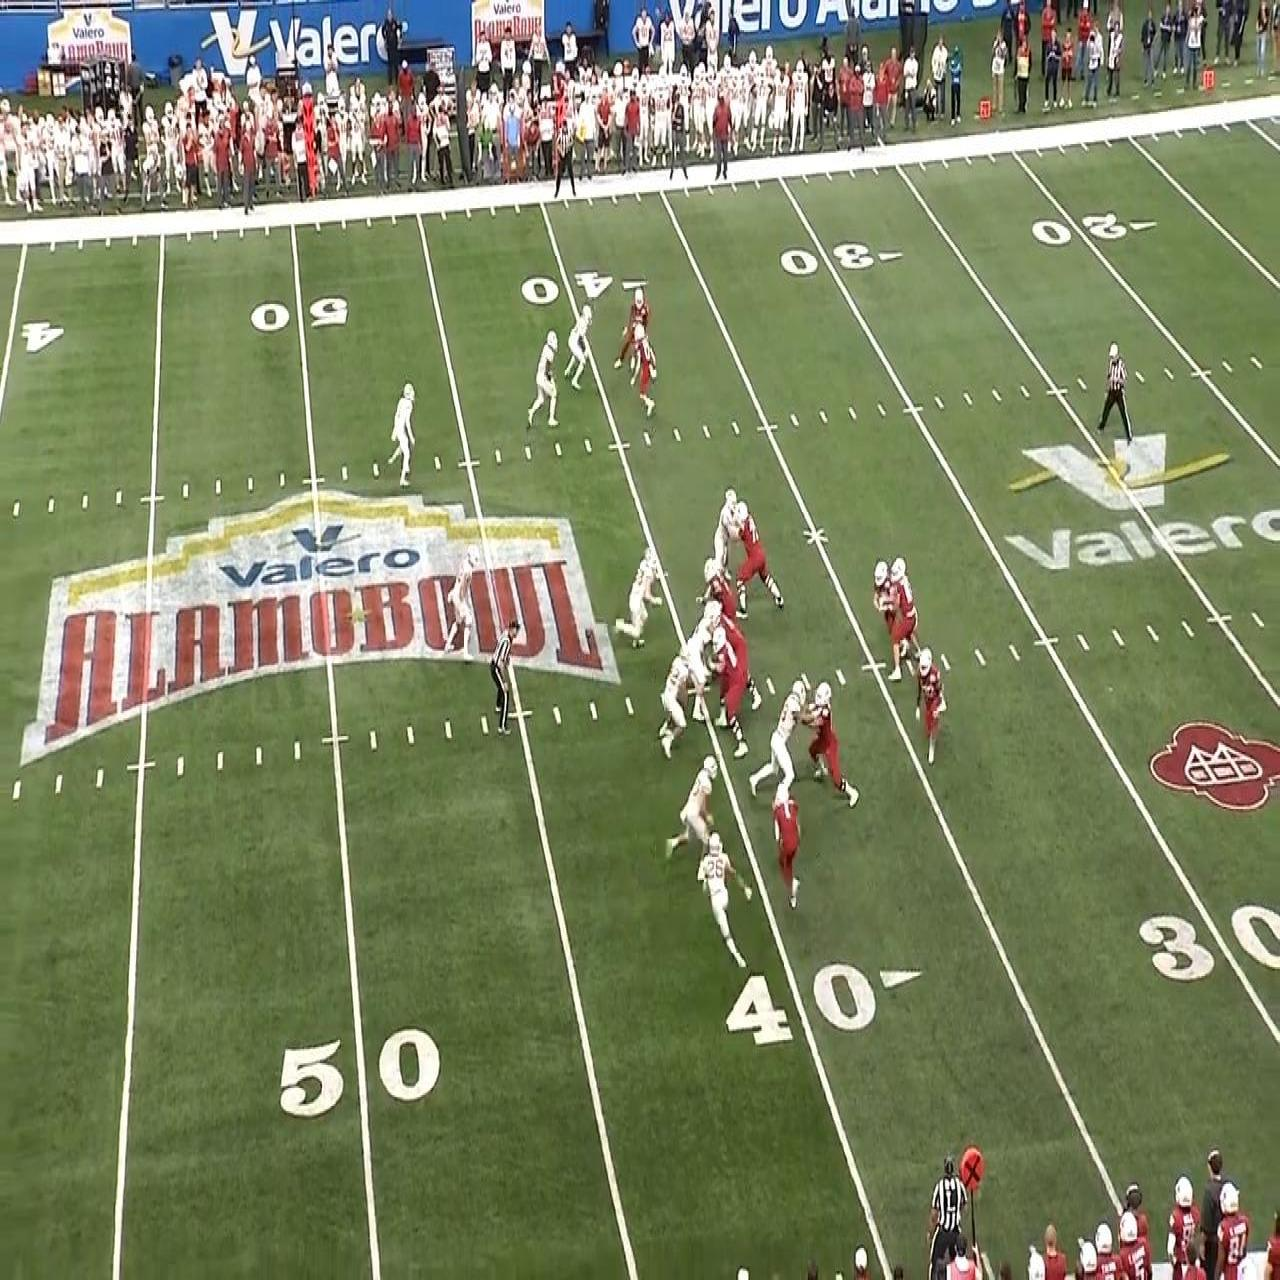20R: (1033, 212, 1159, 247)
30R: (1135, 906, 1280, 986), (779, 241, 905, 278)
40L: (0, 319, 66, 355)
40R: (726, 961, 921, 1046), (520, 271, 648, 306)
50: (279, 1026, 442, 1116), (252, 295, 349, 333)
